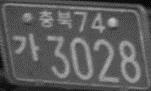0: (71, 36, 93, 81)
2: (93, 38, 120, 84)
3: (45, 34, 69, 78)
4: (90, 11, 106, 34)
7: (73, 9, 89, 32)
8: (118, 39, 142, 84)
가: (11, 32, 40, 61)
충북_O: (38, 8, 72, 29)
